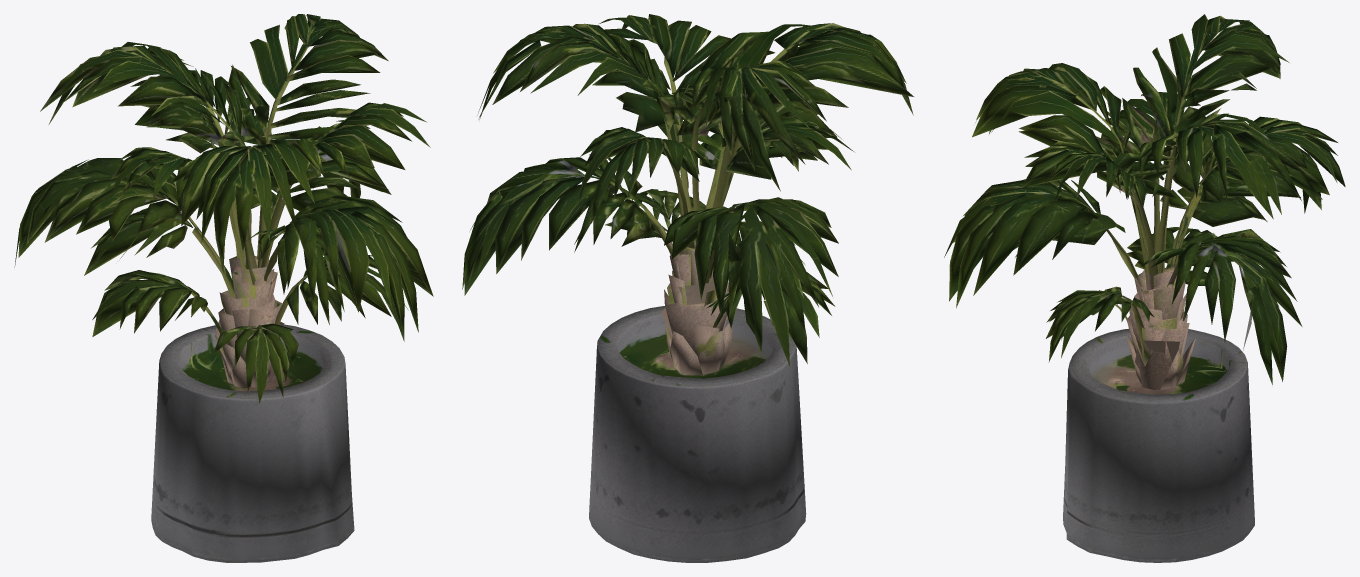
Rendered from plant2.glb.
3 renders of one model, left to right at view 1: azimuth 30°, elevation 25°; view 2: azimuth 150°, elevation 25°; view 3: azimuth 270°, elevation 25°, orthographic. The views are drawn at different scales.
Size of the model in its own units: 0.7383 by 0.9526 by 0.7642.
1 material, 1 textured.
